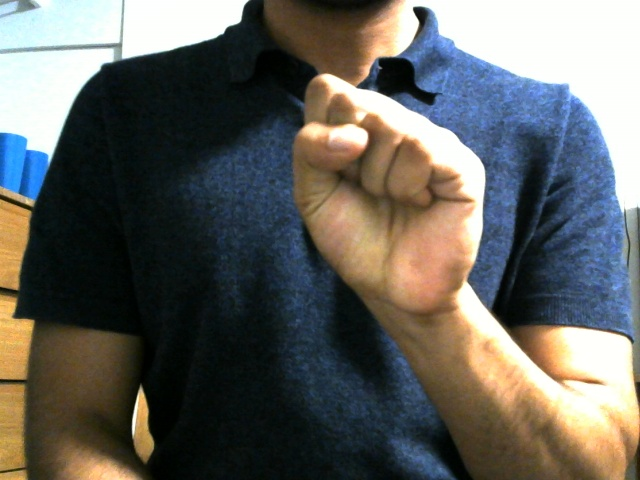S: (283, 68, 492, 322)
